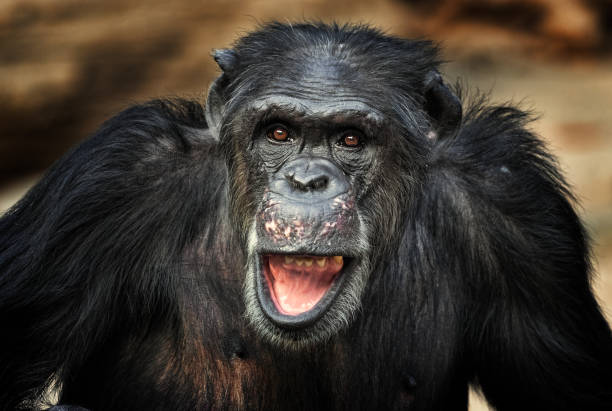chimpanzee: (174, 16, 495, 388)
